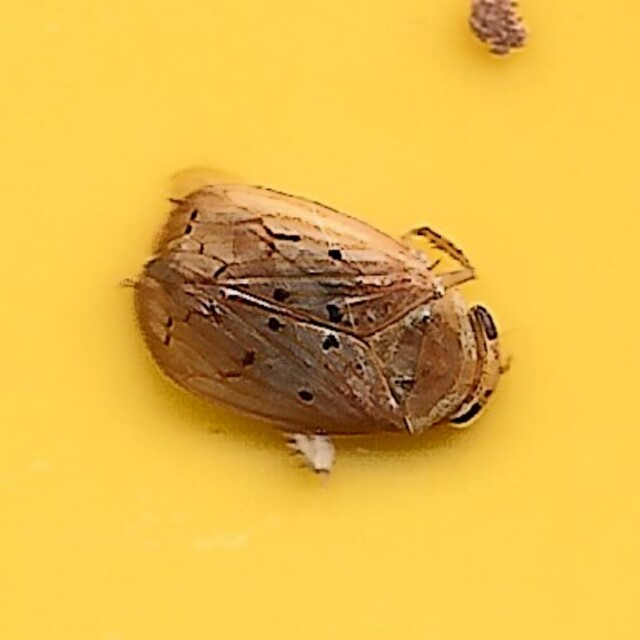Hemiptera: (129, 161, 511, 479)
